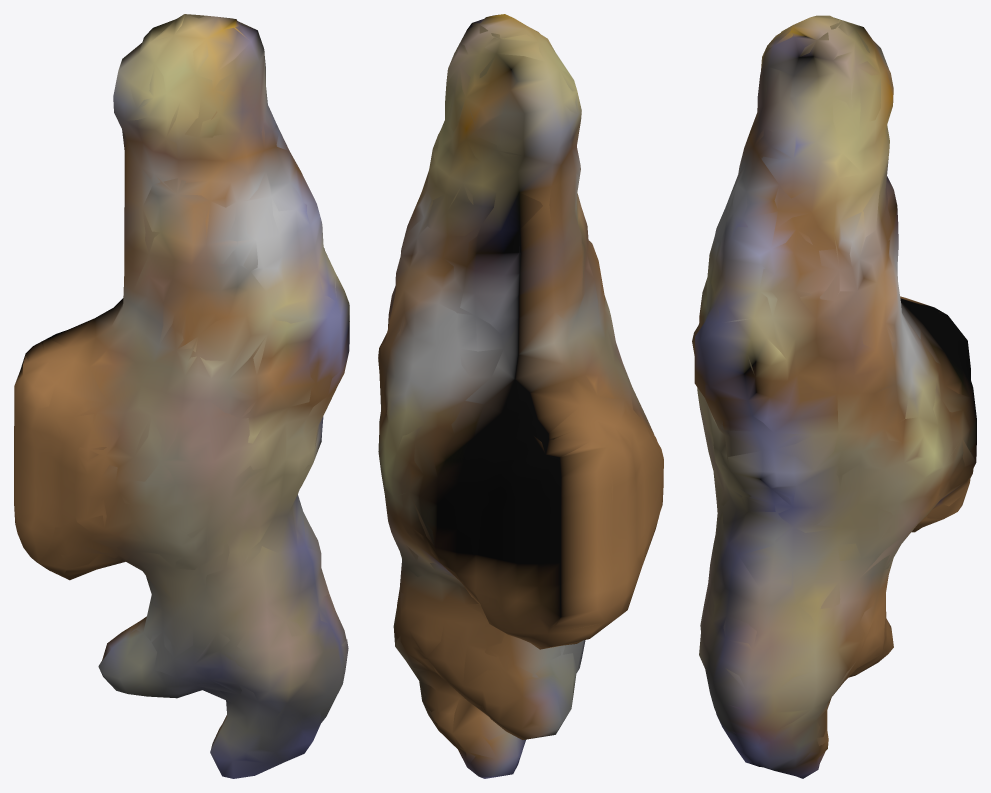
Rendered from soviet_engineer.glb.
3 views of the same model, side by side, from view 1: azimuth 30°, elevation 25°; view 2: azimuth 150°, elevation 25°; view 3: azimuth 270°, elevation 25° (orthographic). The views are drawn at different scales.
Parts seen in each view (by area): view 1: soviet_engineer; view 2: soviet_engineer; view 3: soviet_engineer.
Boxes of the visible parts, x1,y1,x2,y2 form: soviet_engineer: (14,14,349,778); soviet_engineer: (378,14,663,778); soviet_engineer: (692,15,976,778).
Size of the model in its own units: 0.8261 by 2.22 by 0.7741.
